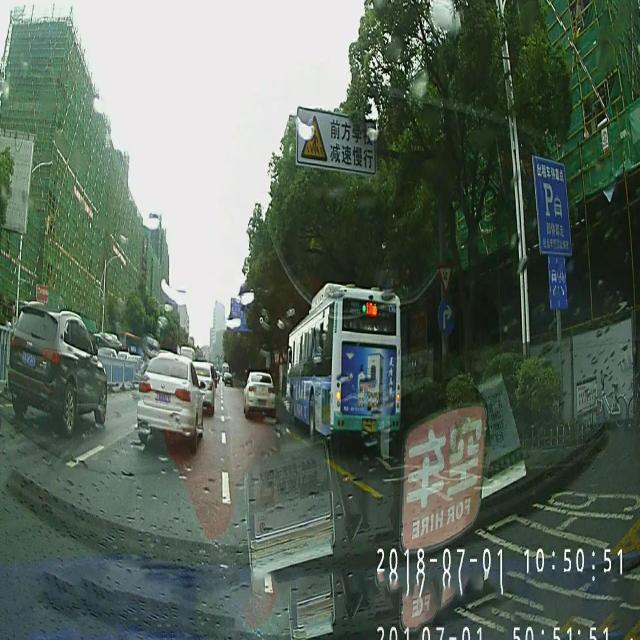car: (7, 298, 107, 436), (136, 352, 204, 455), (242, 370, 276, 417), (190, 356, 215, 413), (223, 371, 233, 387)
